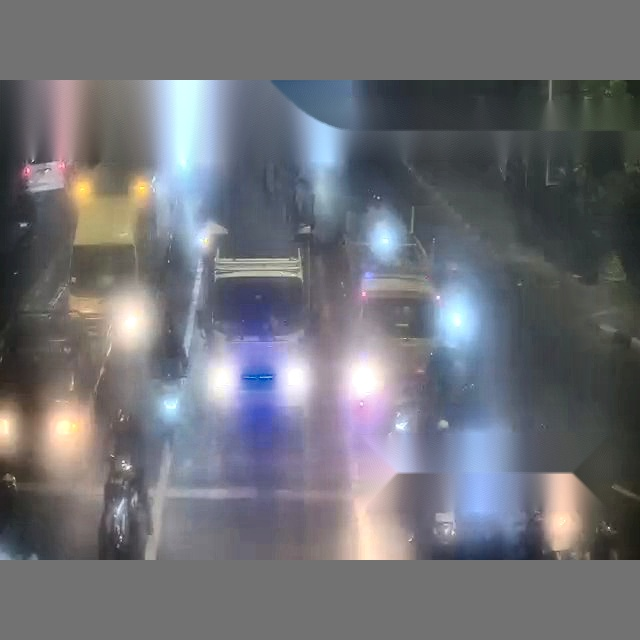Motor: (102, 460, 139, 556)
